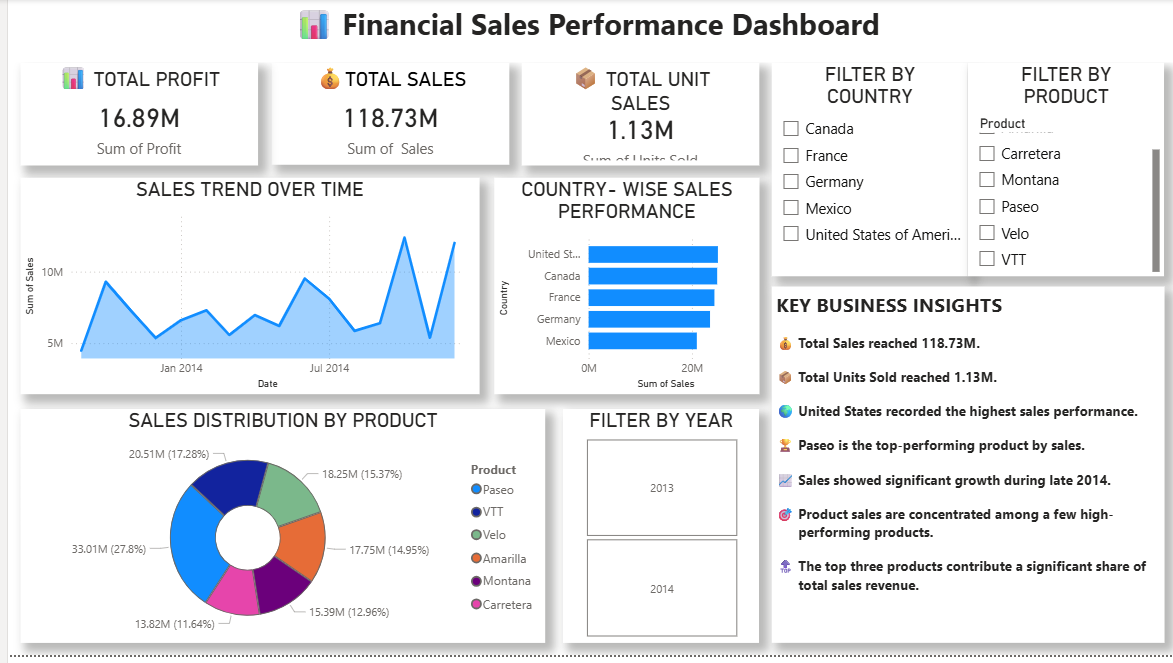

Layout of this report page (visuals, bound fields, positions):
{"tool":"powerbi","page":{"name":"Page 1","canvas":[1280,720],"ordinal":0},"visuals":[{"type":"card","title":"💰TOTAL SALES","fields":{"Values":["Sum(financials. Sales)"]},"box":[289.5,70,260.7,112],"z":0},{"type":"card","title":"📊 TOTAL PROFIT","fields":{"Values":["Sum(financials.Profit)"]},"box":[13.7,70,260.7,112.5],"z":1},{"type":"card","title":"📦 TOTAL UNIT SALES","fields":{"Values":["Sum(financials.Units Sold)"]},"box":[564,70,260.7,112.5],"z":2},{"type":"lineChart","title":"SALES TREND OVER TIME","fields":{"Y":["Sum(financials. Sales)"],"Category":["financials.Date"]},"box":[13.7,196.2,503.6,237.4],"z":3},{"type":"clusteredBarChart","title":"COUNTRY- WISE SALES PERFORMANCE","fields":{"Y":["Sum(financials. Sales)"],"Category":["financials.Country"]},"box":[533.8,196.2,290.9,237.4],"z":4},{"type":"donutChart","title":"SALES DISTRIBUTION BY PRODUCT","fields":{"Category":["financials.Product"],"Y":["Sum(financials. Sales)"]},"box":[13.7,450.1,576.3,256.6],"z":5},{"type":"slicer","title":"FILTER BY COUNTRY","fields":{"Values":["financials.Country"]},"box":[838.4,70,215.4,234.6],"z":6},{"type":"slicer","title":"FILTER BY PRODUCT","fields":{"Values":["financials.Product"]},"box":[1053.9,70,215.4,234.6],"z":7},{"type":"slicer","title":"FILTER BY YEAR","fields":{"Values":["financials.Year"]},"box":[609.3,450.1,215.4,256.6],"z":8},{"type":"textbox","box":[0,0,1280.3,70],"z":9},{"type":"textbox","box":[838.4,315.6,430.9,391.1],"z":10}]}

Visuals, with their boxes in screenshot pixels (x1, y1, x2, y2), scaled from the page's 1280x720 canvas onto the 1173x663 screenshot:
"💰TOTAL SALES" card: locate(265, 64, 504, 168)
"📊 TOTAL PROFIT" card: locate(13, 64, 251, 168)
"📦 TOTAL UNIT SALES" card: locate(517, 64, 756, 168)
"SALES TREND OVER TIME" lineChart: locate(13, 181, 474, 399)
"COUNTRY- WISE SALES PERFORMANCE" clusteredBarChart: locate(489, 181, 756, 399)
"SALES DISTRIBUTION BY PRODUCT" donutChart: locate(13, 414, 541, 651)
"FILTER BY COUNTRY" slicer: locate(768, 64, 966, 280)
"FILTER BY PRODUCT" slicer: locate(966, 64, 1163, 280)
"FILTER BY YEAR" slicer: locate(558, 414, 756, 651)
textbox: locate(0, 0, 1172, 64)
textbox: locate(768, 291, 1163, 651)
